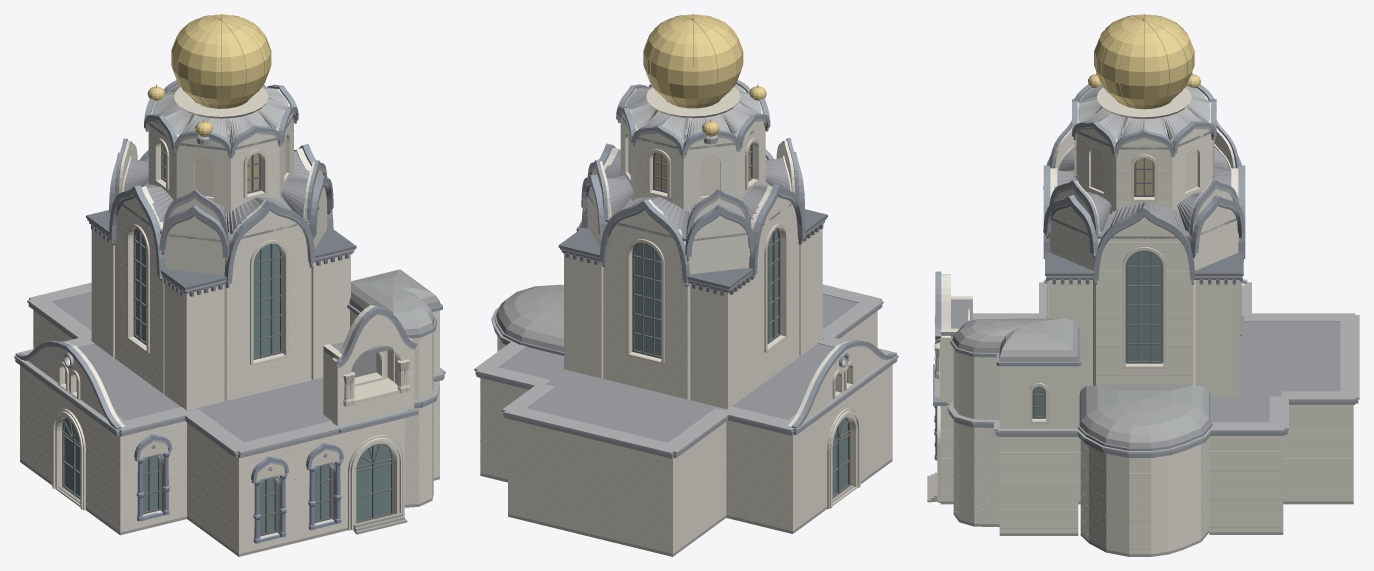
File: huangpu-gaolan-st-nicholas-church-lod.glb
3 views of the same model, side by side, from view 1: azimuth 30°, elevation 25°; view 2: azimuth 150°, elevation 25°; view 3: azimuth 270°, elevation 25° (orthographic).
Parts seen in each view (by area): view 1: 皋兰路圣尼古拉斯堂主堂; view 2: 皋兰路圣尼古拉斯堂主堂; view 3: 皋兰路圣尼古拉斯堂主堂.
Boxes of the visible parts, x1,y1,x2,y2 form: 皋兰路圣尼古拉斯堂主堂: (14, 14, 445, 556); 皋兰路圣尼古拉斯堂主堂: (474, 14, 898, 556); 皋兰路圣尼古拉斯堂主堂: (927, 14, 1359, 556).
Bounding box in the file's own units: 13.25 × 16.08 × 14.09.
